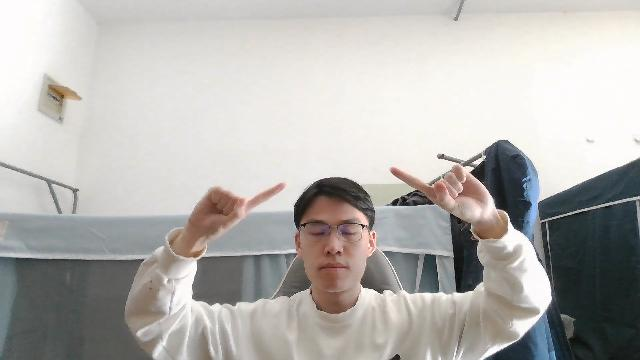one: (389, 159, 504, 233), (182, 178, 286, 244)
